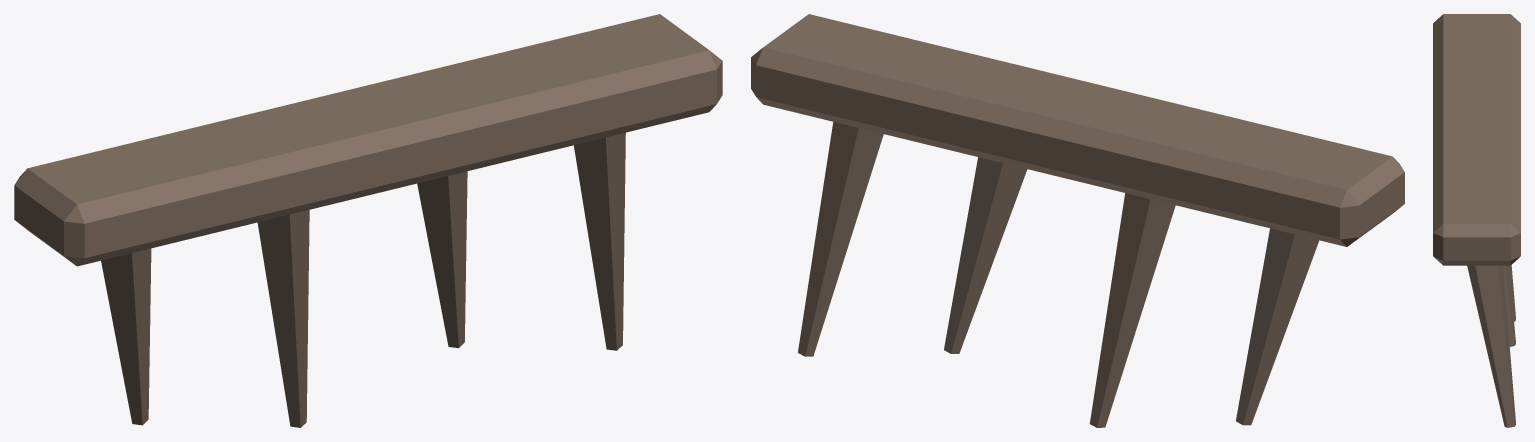
File: beira_reta.glb
The picture shows the model from 3 angles, left to right: view 1: azimuth 30°, elevation 25°; view 2: azimuth 150°, elevation 25°; view 3: azimuth 270°, elevation 25°; orthographic projection. The views are drawn at different scales.
Visible parts, largest first — view 1: pedreira_beira_reta; view 2: pedreira_beira_reta; view 3: pedreira_beira_reta.
Part boxes in pixels (x1,y1,x2,y2): pedreira_beira_reta: (14, 14, 722, 427); pedreira_beira_reta: (751, 14, 1404, 427); pedreira_beira_reta: (1433, 14, 1520, 427).
Size of the model in its own units: 1 by 0.4671 by 0.17.
